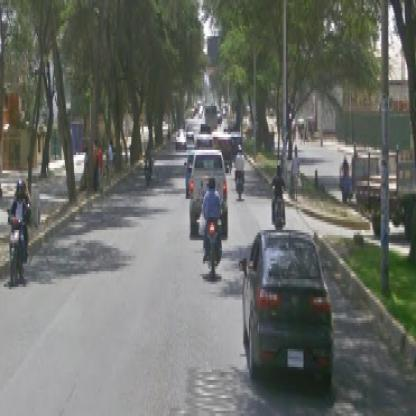Moto: (7, 179, 34, 288), (202, 177, 225, 280), (270, 164, 286, 228)
Peaton: (106, 138, 115, 192)
Pista: (3, 107, 413, 409)
Vehiculo: (240, 231, 334, 394), (190, 148, 229, 241)
